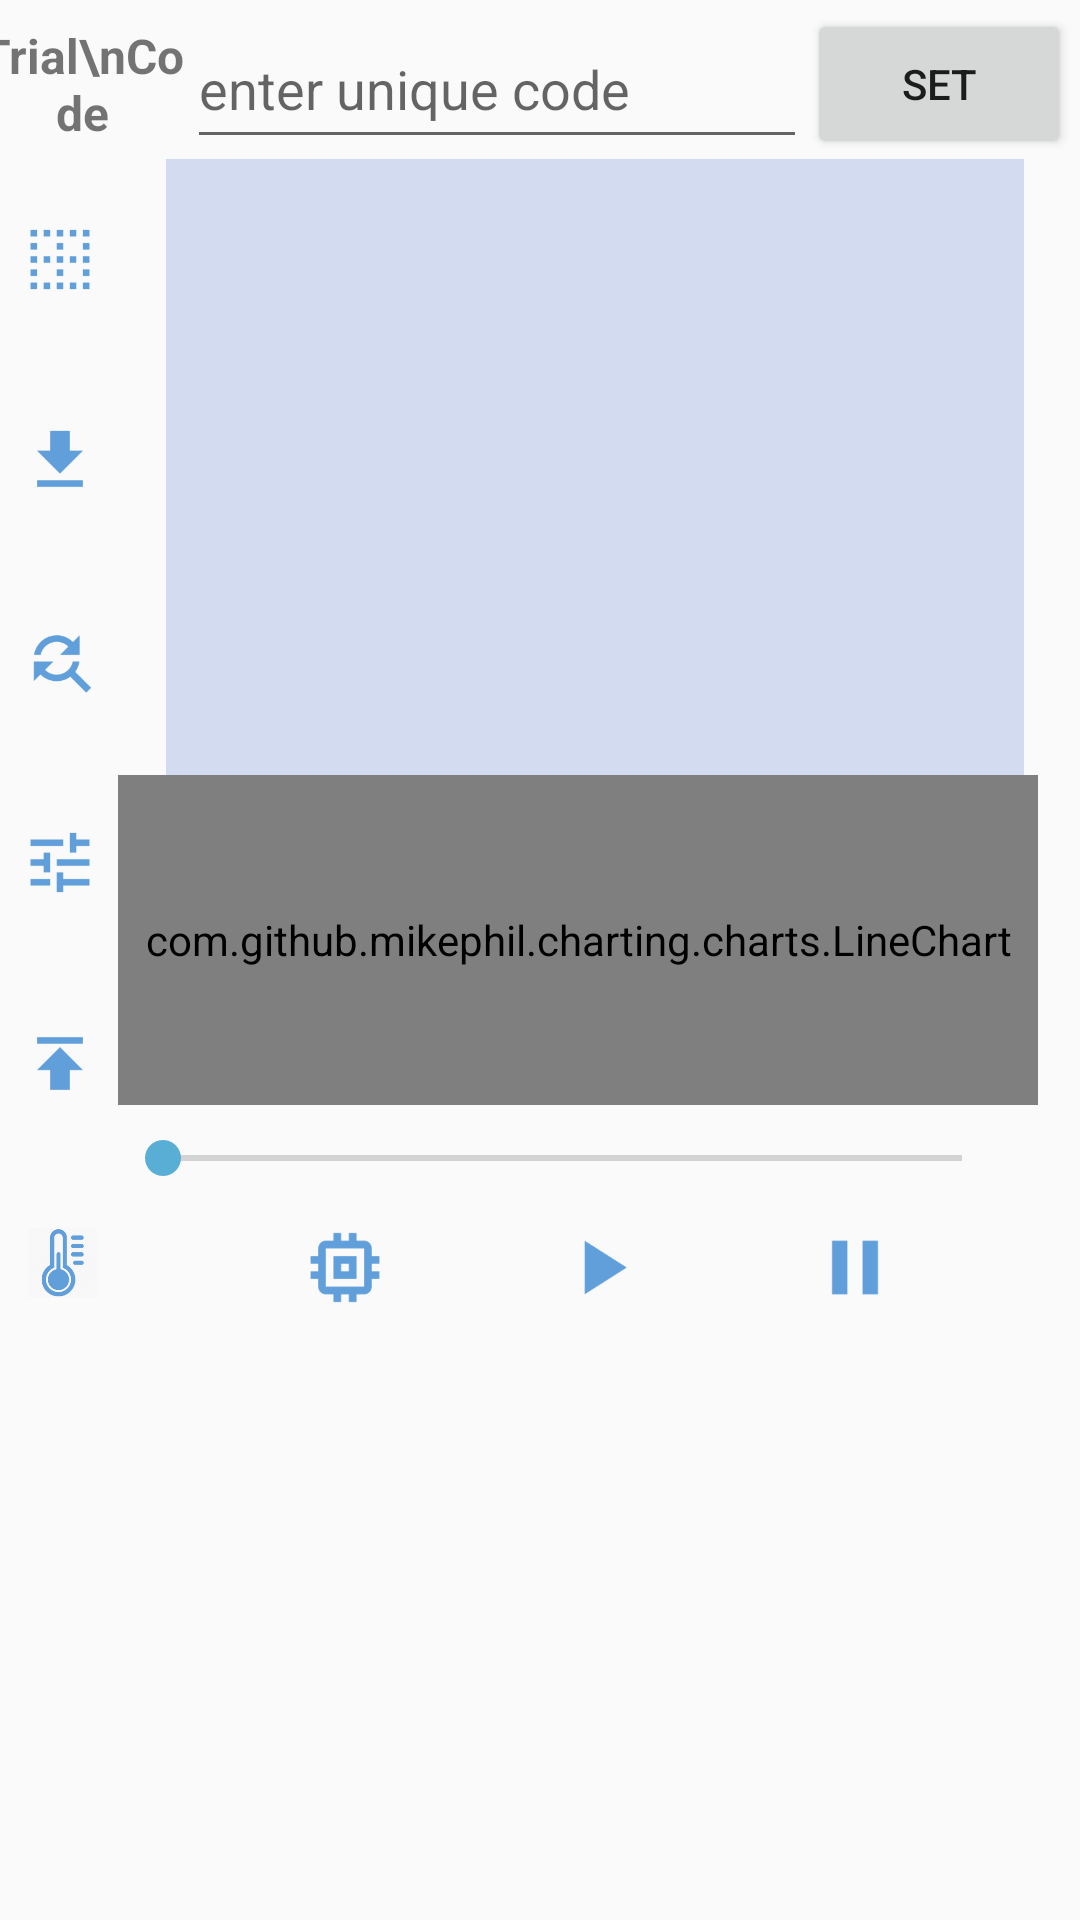

Icons on this 1080px×1920px Android screen, each with the point to tap as (x=x, y=y):
find vref: (x=62, y=664)
load fp: (x=60, y=1063)
pause: (x=855, y=1267)
start: (x=605, y=1267)
